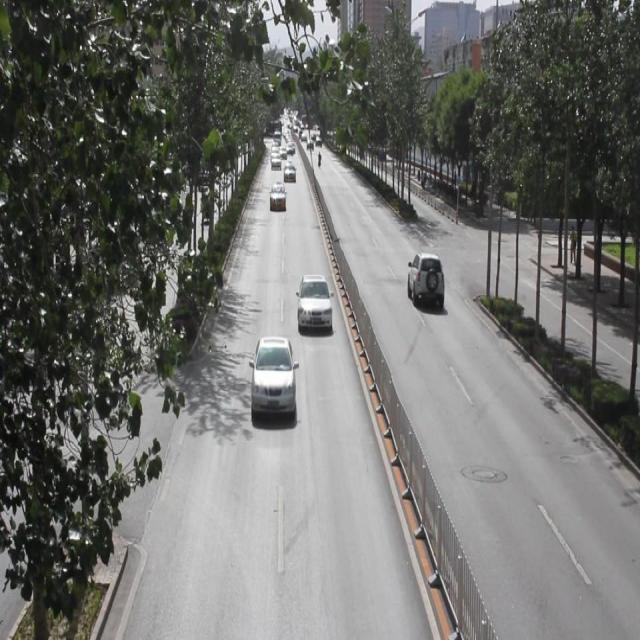car: (250, 334, 293, 413), (407, 250, 444, 308), (296, 273, 331, 333), (270, 182, 286, 210)
